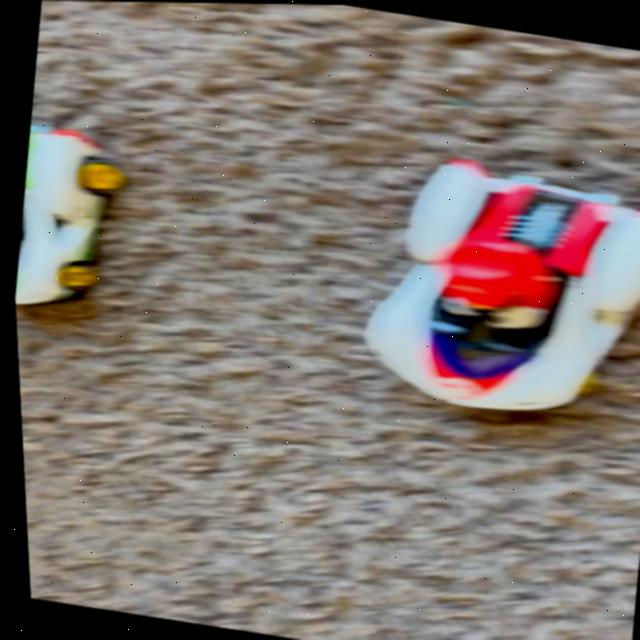mario: (337, 146, 640, 438)
yoshi: (4, 102, 143, 341)
